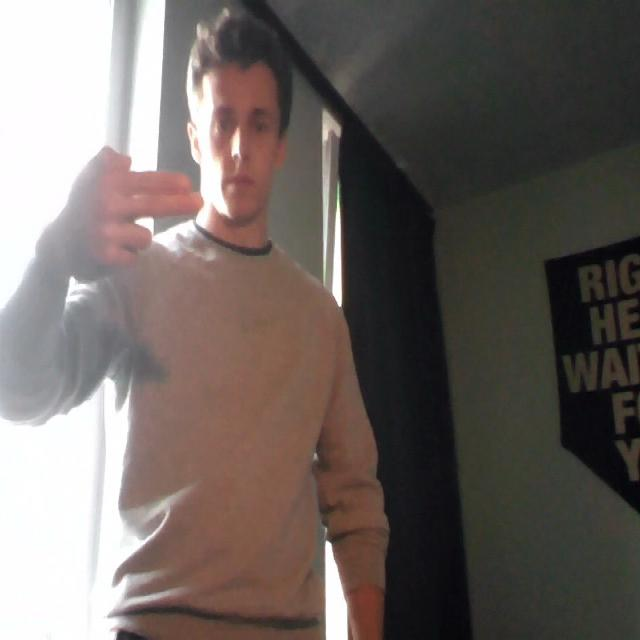right: (47, 140, 211, 289)
